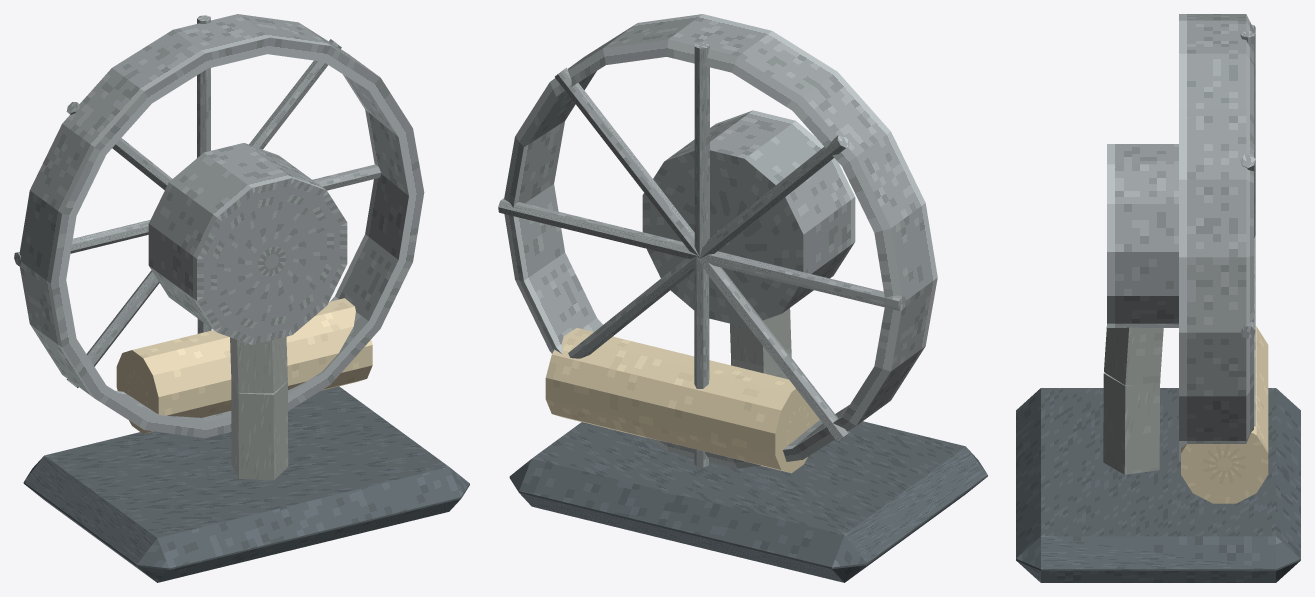
The model's file is electric_spinwheel.glb.
The picture shows the model from 3 angles, left to right: view 1: azimuth 30°, elevation 25°; view 2: azimuth 150°, elevation 25°; view 3: azimuth 270°, elevation 25°; orthographic projection. The views are drawn at different scales.
Parts seen in each view (by area): view 1: block_counterweighted base, block_drive wheel rim, block_drive housing, block_spindle with wound yarn, block_radial wire or spoke (×6), block_vertical stand 0, block_vertical stand 1; view 2: block_drive wheel rim, block_counterweighted base, block_drive housing, block_radial wire or spoke (×8), block_spindle with wound yarn, block_vertical stand 1; view 3: block_counterweighted base, block_drive wheel rim, block_drive housing, block_spindle with wound yarn, block_vertical stand 0, block_vertical stand 1, block_radial wire or spoke (×2).
Part boxes in pixels (left/top/right/bottom): block_counterweighted base: left=23, top=386, right=469, bottom=582; block_drive wheel rim: left=19, top=14, right=424, bottom=438; block_drive housing: left=148, top=143, right=347, bottom=344; block_spindle with wound yarn: left=116, top=298, right=372, bottom=433; block_radial wire or spoke (×6): left=14, top=15, right=381, bottom=387; block_vertical stand 0: left=231, top=380, right=288, bottom=480; block_vertical stand 1: left=230, top=336, right=287, bottom=393; block_drive wheel rim: left=504, top=14, right=937, bottom=468; block_counterweighted base: left=509, top=421, right=987, bottom=582; block_drive housing: left=642, top=110, right=855, bottom=326; block_radial wire or spoke (×8): left=498, top=42, right=905, bottom=467; block_spindle with wound yarn: left=545, top=328, right=819, bottom=473; block_vertical stand 1: left=730, top=308, right=791, bottom=366; block_counterweighted base: left=1016, top=388, right=1300, bottom=582; block_drive wheel rim: left=1179, top=14, right=1253, bottom=461; block_drive housing: left=1107, top=144, right=1178, bottom=327; block_spindle with wound yarn: left=1181, top=326, right=1268, bottom=503; block_vertical stand 0: left=1103, top=373, right=1160, bottom=474; block_vertical stand 1: left=1104, top=327, right=1163, bottom=385; block_radial wire or spoke (×2): left=1240, top=31, right=1255, bottom=339.
Bounding box in the file's own units: 0.3684 × 0.43 × 0.2338.
Materials: 1 (1 with a texture image).
